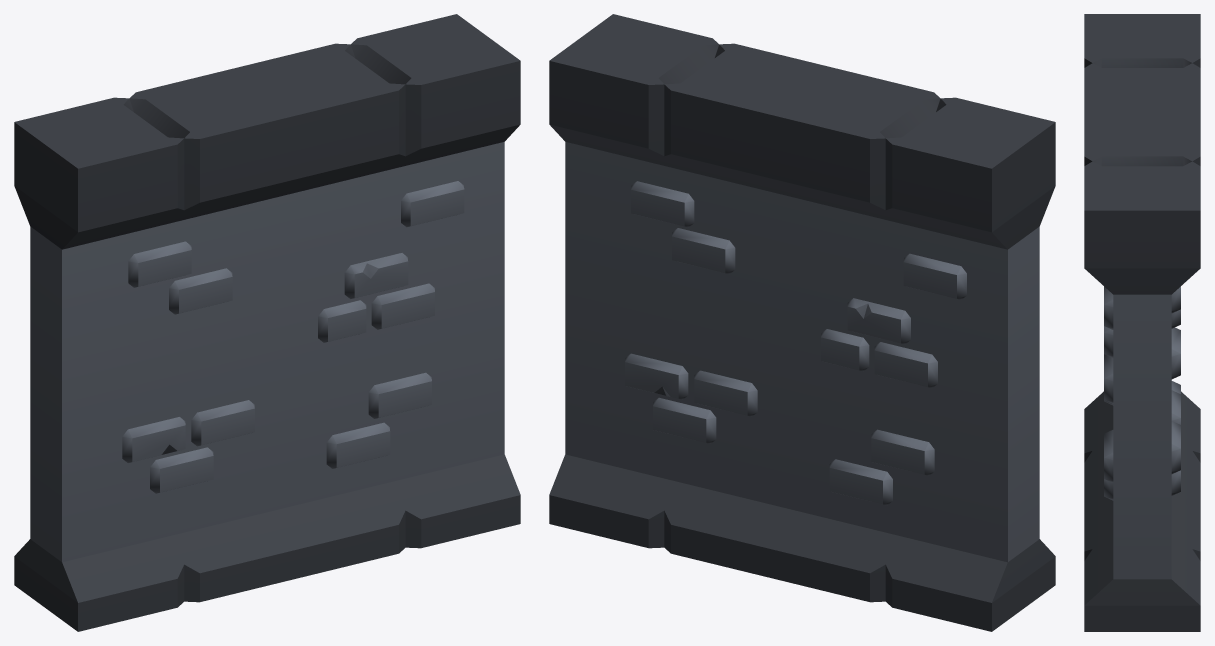
Rendered from wall.glb.
3 views of the same model, side by side, from view 1: azimuth 30°, elevation 25°; view 2: azimuth 150°, elevation 25°; view 3: azimuth 270°, elevation 25° (orthographic). The views are drawn at different scales.
Visible parts, largest first — view 1: wall; view 2: wall; view 3: wall.
Boxes of the visible parts, x1=… form: wall: x1=14, y1=14, x2=520, y2=631; wall: x1=549, y1=14, x2=1055, y2=631; wall: x1=1084, y1=14, x2=1200, y2=631.
Bounding box in the file's own units: 4 × 4 × 1.
Materials: 1 (1 with a texture image).
